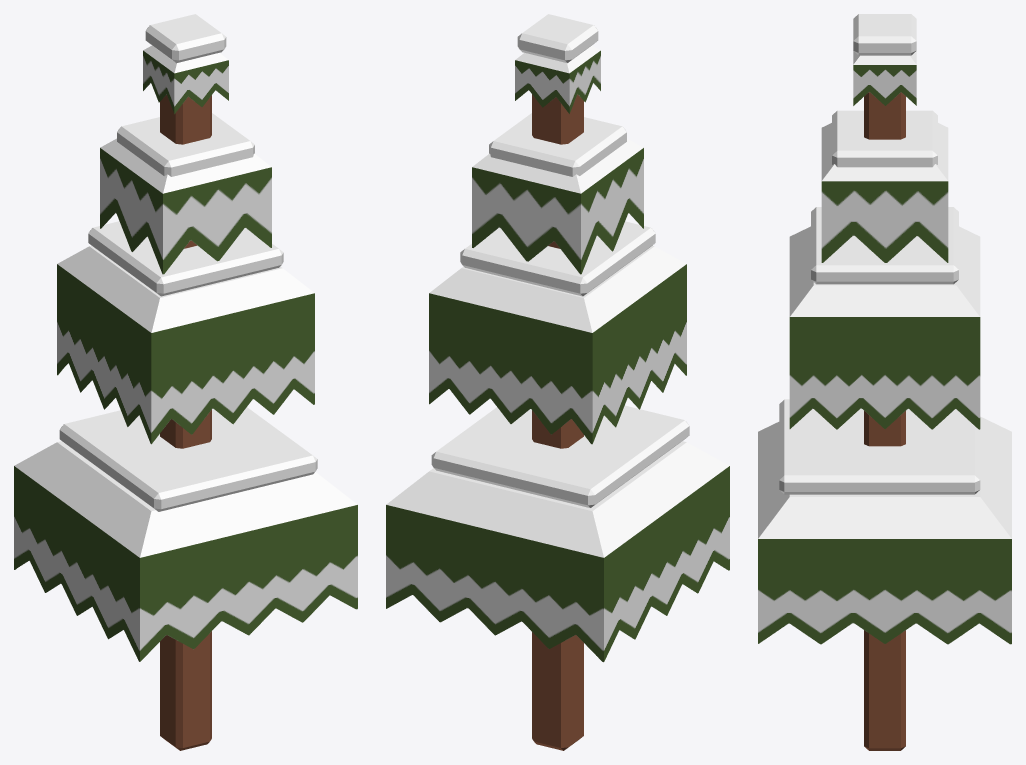
File: Tree 4.fbx
3 views of the same model, side by side, from view 1: azimuth 30°, elevation 25°; view 2: azimuth 150°, elevation 25°; view 3: azimuth 270°, elevation 25° (orthographic).
Parts seen in each view (by area): view 1: Tree_Crown_4, Tree_Crown_3, Snow_4, Tree_Crown_2, Trunk, Snow_3, Snow_2, Tree_Crown_1, Snow_1; view 2: Tree_Crown_4, Tree_Crown_3, Snow_4, Tree_Crown_2, Trunk, Snow_3, Snow_2, Tree_Crown_1, Snow_1; view 3: Tree_Crown_4, Tree_Crown_3, Snow_4, Tree_Crown_2, Trunk, Snow_3, Snow_2, Tree_Crown_1, Snow_1.
Boxes of the visible parts, x1,y1,x2,y2 form: Tree_Crown_4: (14, 441, 357, 661); Tree_Crown_3: (57, 245, 314, 444); Snow_4: (59, 407, 317, 511); Tree_Crown_2: (100, 138, 271, 274); Trunk: (160, 95, 211, 750); Snow_3: (88, 221, 283, 296); Snow_2: (117, 113, 254, 176); Tree_Crown_1: (143, 45, 228, 113); Snow_1: (145, 14, 226, 63); Tree_Crown_4: (386, 441, 729, 662); Tree_Crown_3: (429, 245, 686, 444); Snow_4: (431, 405, 689, 507); Tree_Crown_2: (472, 138, 643, 274); Trunk: (532, 94, 583, 750); Snow_3: (460, 221, 655, 296); Snow_2: (489, 113, 626, 176); Tree_Crown_1: (515, 45, 600, 113); Snow_1: (517, 14, 598, 63); Tree_Crown_4: (758, 416, 1011, 644); Tree_Crown_3: (789, 226, 980, 429); Snow_4: (779, 399, 980, 494); Tree_Crown_2: (821, 123, 948, 262); Trunk: (864, 92, 905, 750); Snow_3: (811, 207, 958, 284); Snow_2: (832, 110, 937, 167); Tree_Crown_1: (853, 51, 916, 105); Snow_1: (853, 14, 916, 55).
Size of the model in its own units: 1.2 by 3.75 by 1.2.
